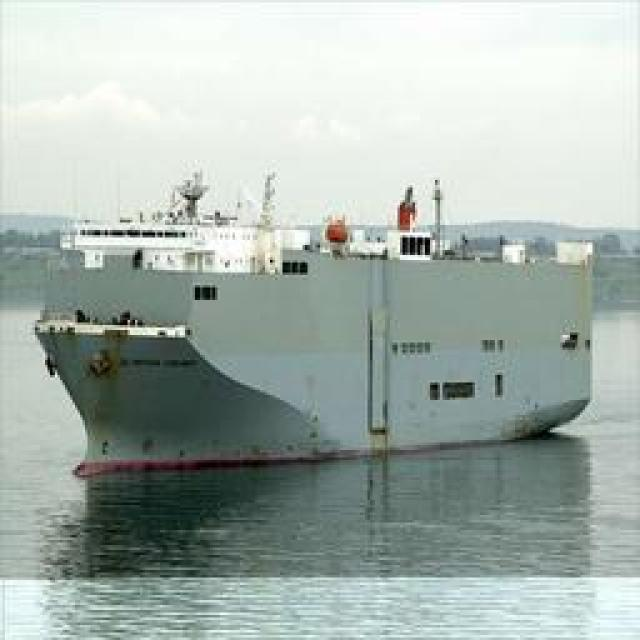CIV_Ship: (41, 202, 611, 468)
